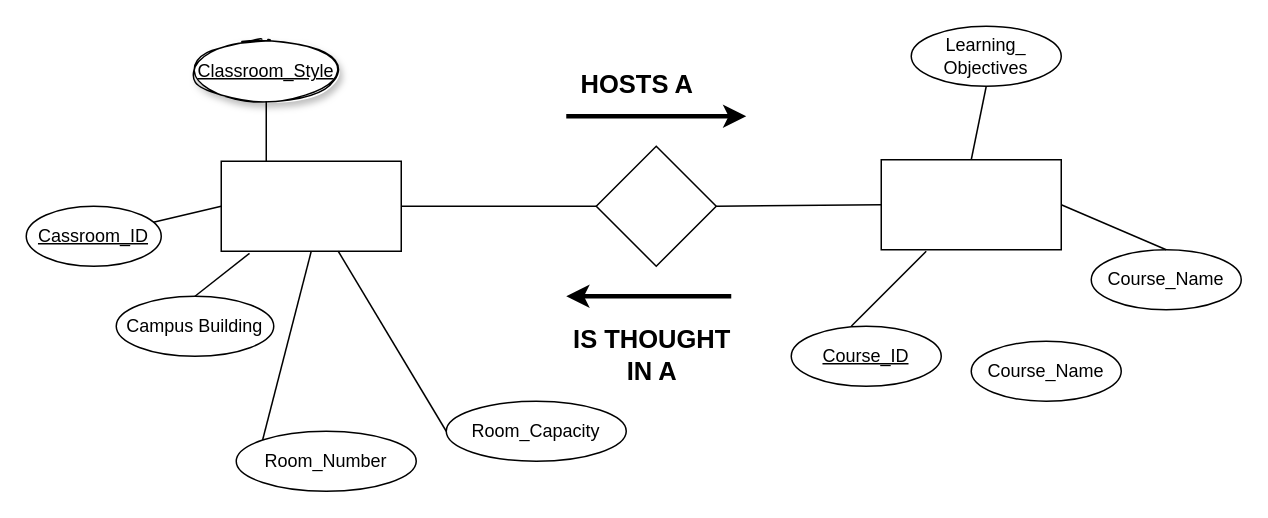
The diagram is 1268 pixels wide and 518 high, and some of its shapes have lost their labels. Here are the shapes that lost their labels. From the top down, the centre of each, then its label:
point 310,205: CLASSROOM
point 970,204: COURSE
